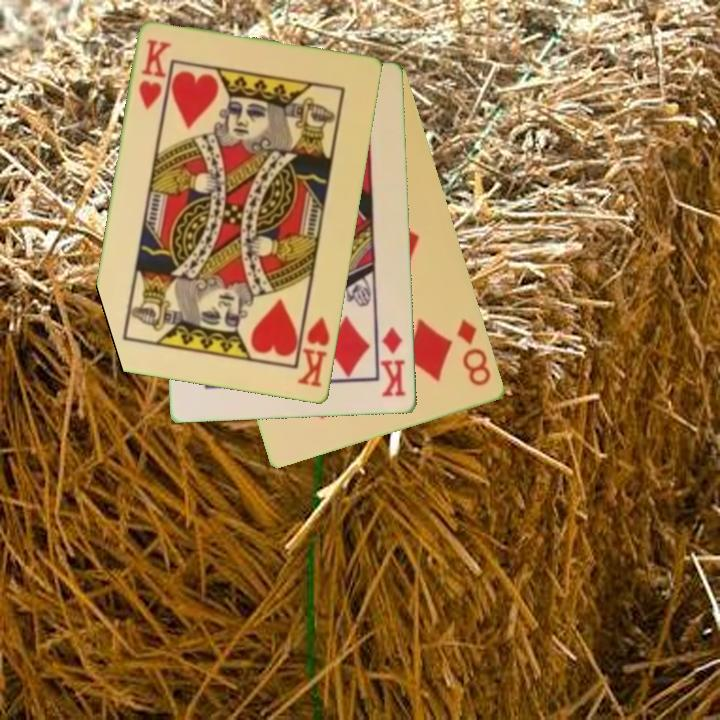8d: (454, 316, 494, 390)
Kd: (377, 323, 409, 400)
Kh: (294, 306, 333, 391), (135, 36, 174, 113)
